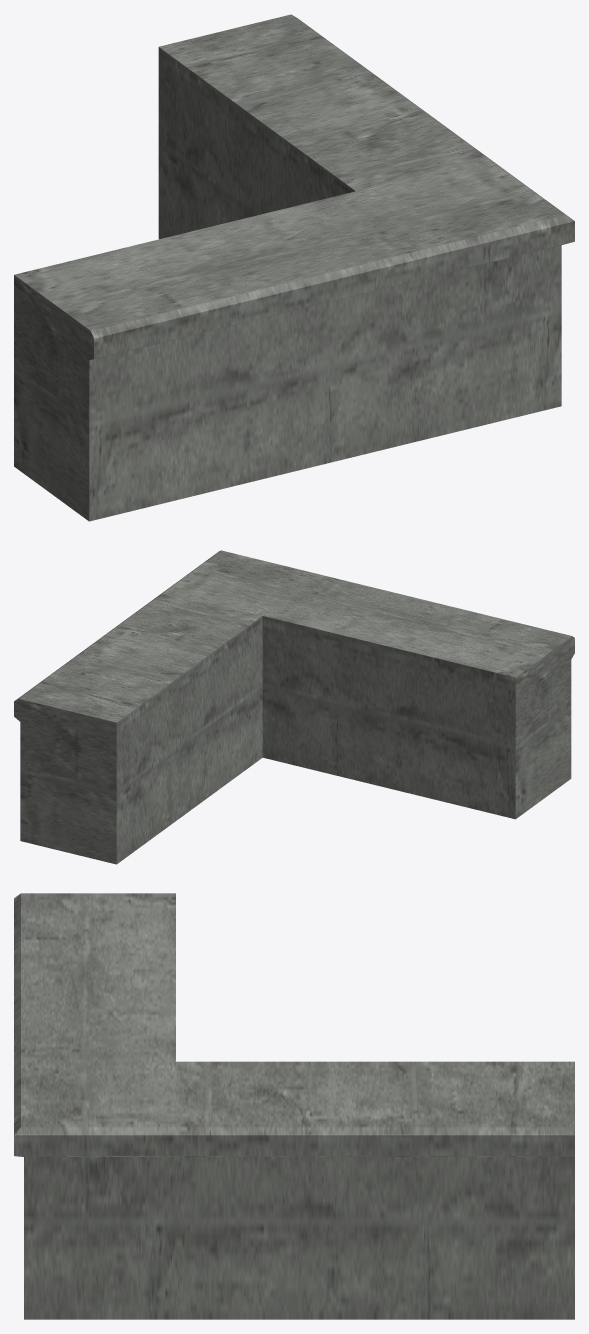
The model's file is PlatformCorner_LOD0.fbx.
3 renders of one model, top to bottom at view 1: azimuth 30°, elevation 25°; view 2: azimuth 150°, elevation 25°; view 3: azimuth 270°, elevation 25°, orthographic. The views are drawn at different scales.
Visible parts, largest first — view 1: PlatformCorner; view 2: PlatformCorner; view 3: PlatformCorner.
Boxes of the visible parts, x1,y1,x2,y2 form: PlatformCorner: (14, 14, 574, 521); PlatformCorner: (14, 550, 574, 864); PlatformCorner: (14, 893, 574, 1319).
Size of the model in its own units: 1.18 by 0.45 by 1.18.
1 material, 1 textured.
